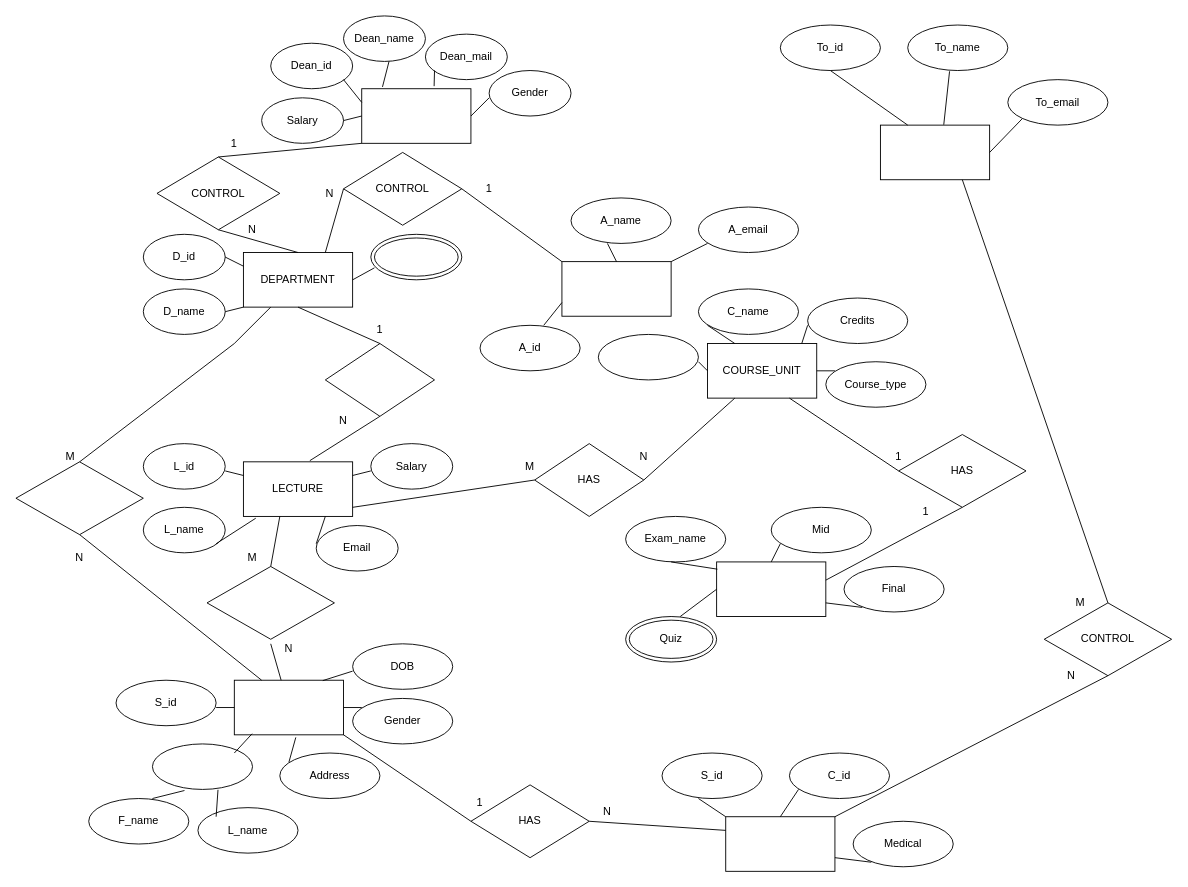
This 1188x887 diagram has some shape labels left out. Here are the shapes that lost their labels. From the top down, the centre of each, then its label:
At pixel 416 115: "DEAN".
At pixel 935 152: "TECHNICAL_OFFICER".
At pixel 416 256: "Location".
At pixel 616 288: "ADMIN".
At pixel 647 357: "C_code".
At pixel 379 379: "WORKS_FOR".
At pixel 79 498: "BELONG".
At pixel 270 602: "TEACHES".
At pixel 771 589: "EXAM_MARKS".
At pixel 288 707: "STUDENT".
At pixel 202 766: "S_name".
At pixel 780 843: "ATTENDENCE".
